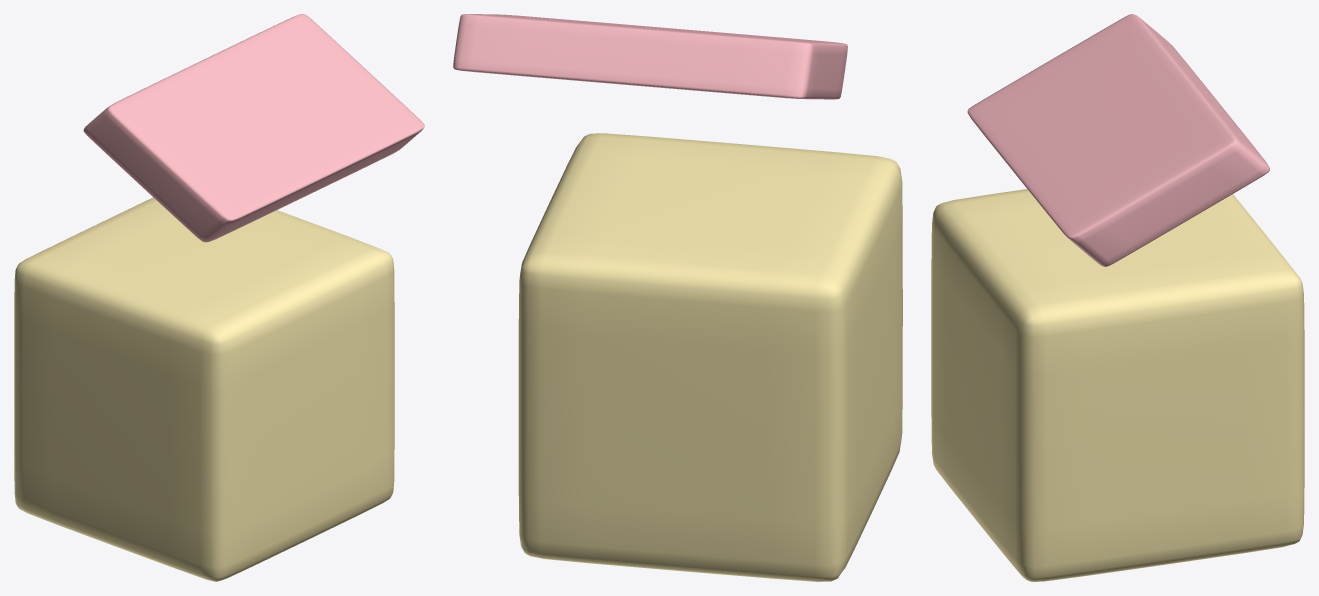
The model's file is PROP_Slide_v0.glb.
3 views of the same model, side by side, from view 1: azimuth 30°, elevation 25°; view 2: azimuth 150°, elevation 25°; view 3: azimuth 270°, elevation 25° (orthographic). The views are drawn at different scales.
Parts seen in each view (by area): view 1: PROP_Slide_v0; view 2: PROP_Slide_v0; view 3: PROP_Slide_v0.
Part boxes in pixels (box(x1,y1,x2,y2)): PROP_Slide_v0: box(14, 14, 424, 581); PROP_Slide_v0: box(453, 14, 902, 581); PROP_Slide_v0: box(931, 14, 1304, 581).
Bounding box in the file's own units: 1.43 × 1.63 × 1.22.
